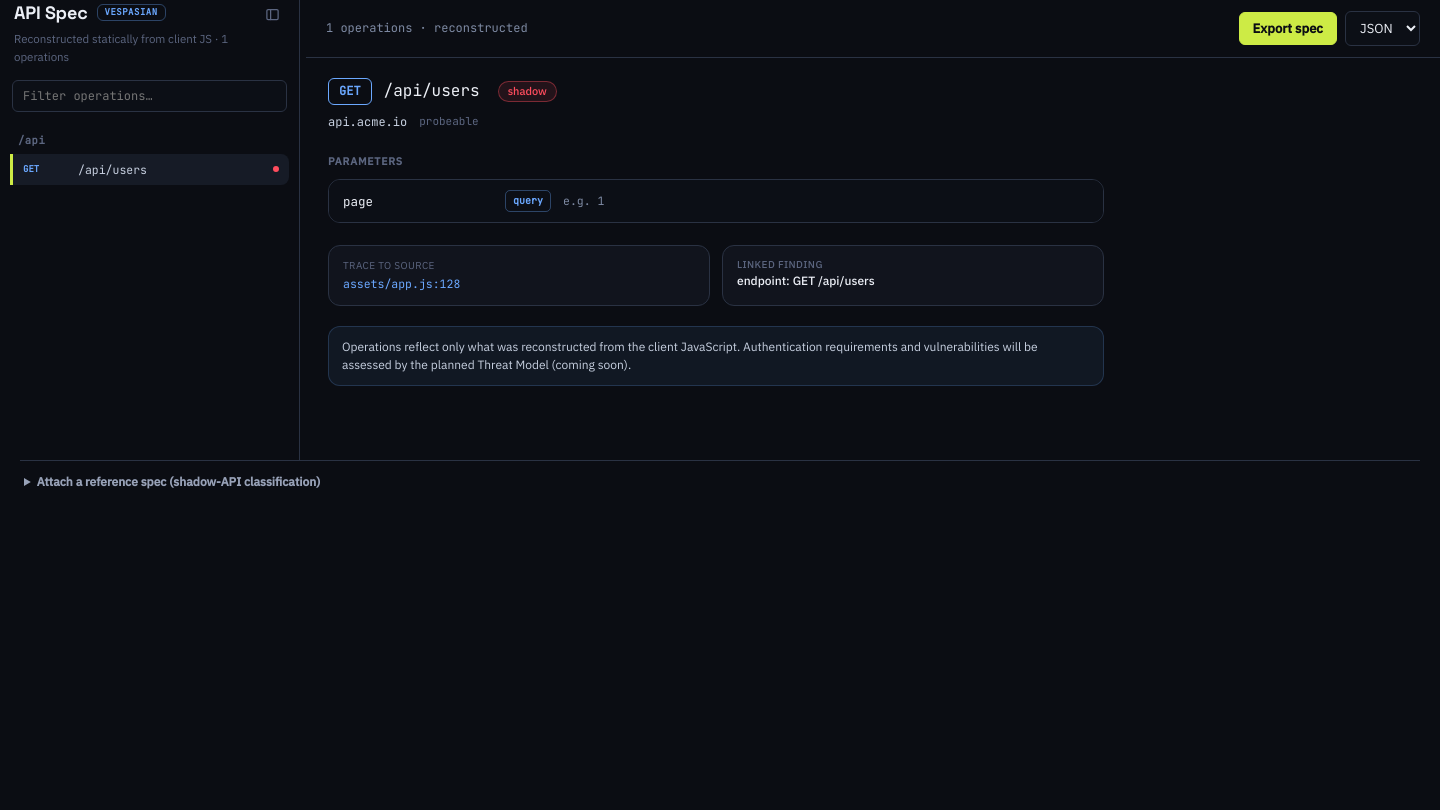
Test case: ApiSpecPage › opens the linked finding in a drawer
The width and height of the screenshot is (1440, 810).
Check: the text "page" is shown, box [343, 192, 373, 210]
Click the button "LINKED FINDING endpoint: GET /api/users". click: (780, 264)
box: [722, 245, 1104, 306]
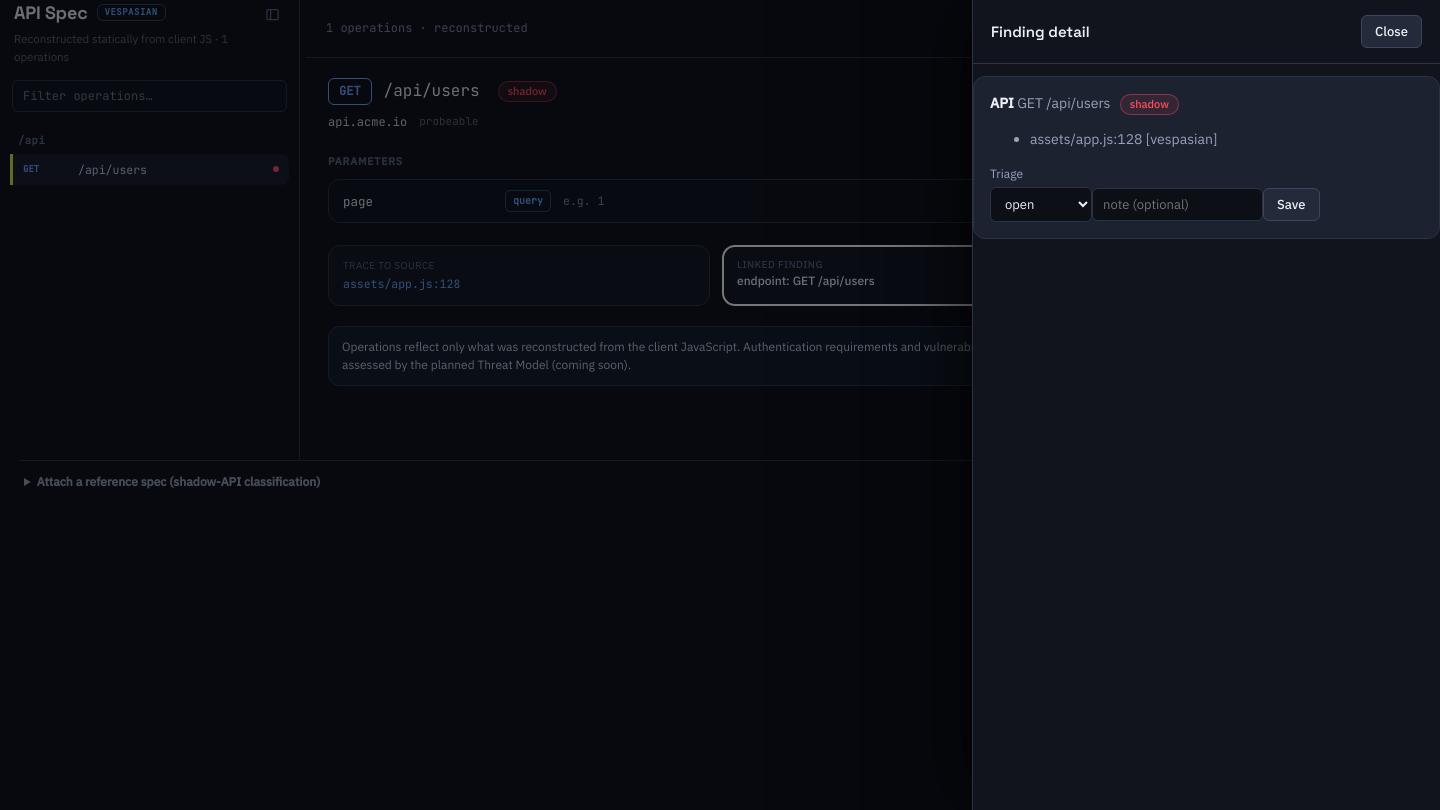
Check: the dialog "Finding detail" is shown, box [972, 0, 1439, 809]
